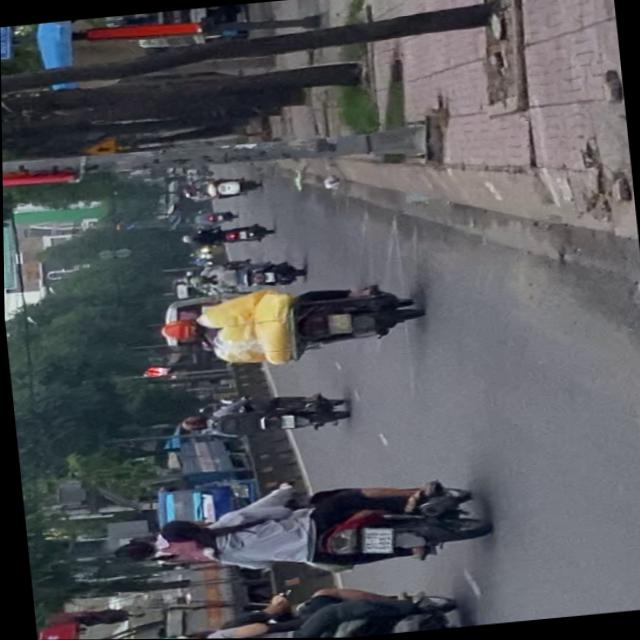helmet: (156, 319, 203, 346)
licenseplate: (111, 469, 492, 595), (152, 276, 424, 378), (138, 577, 471, 639)
motorcyclist: (153, 517, 207, 547), (114, 537, 162, 565)
nohelmet: (357, 527, 389, 555), (324, 314, 348, 336)
